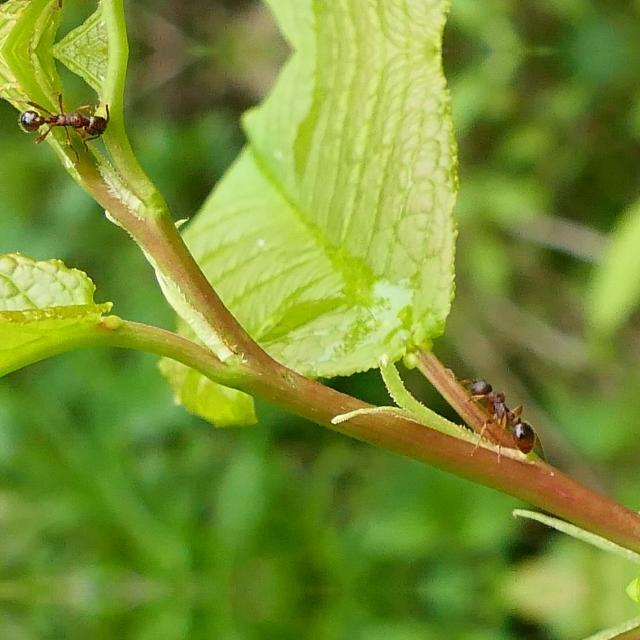Myrmica: (452, 363, 548, 459), (0, 75, 122, 149), (0, 0, 122, 24)
